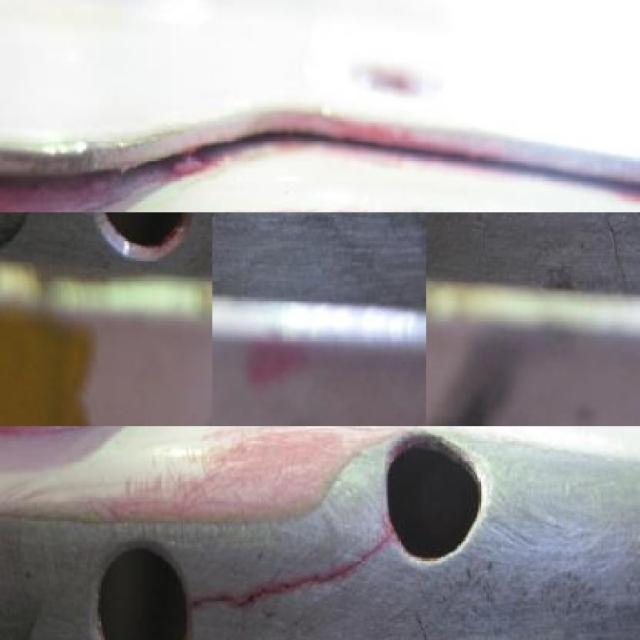crack: (245, 569, 359, 605), (354, 534, 394, 567), (191, 591, 245, 610)
